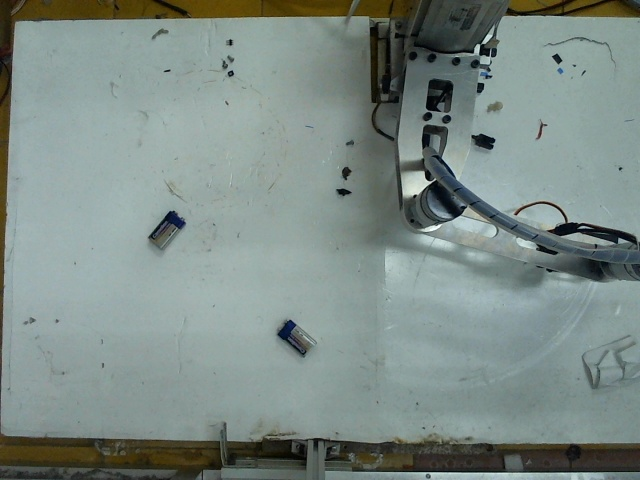battery: (275, 319, 315, 357), (145, 207, 183, 246)
